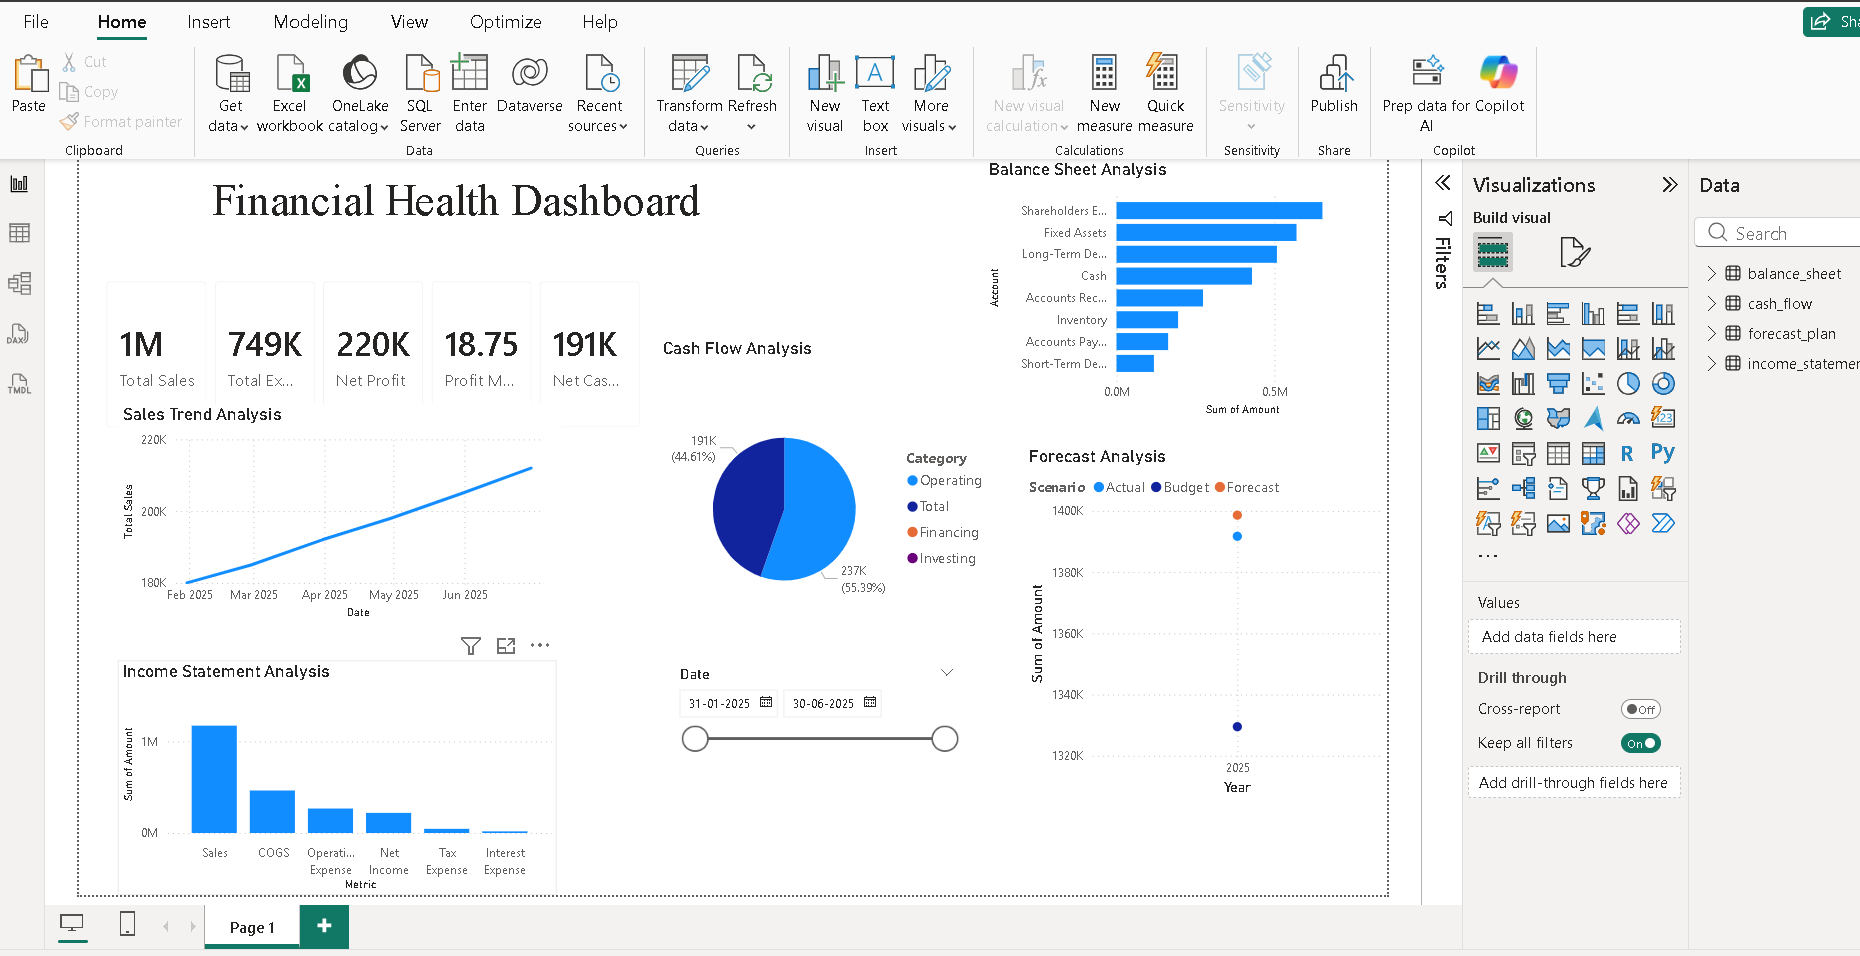

The page's visual inventory and layout, read from the dashboard file:
{"tool":"powerbi","page":{"name":"Page 1","canvas":[1280,720],"ordinal":0},"visuals":[{"type":"cardVisual","fields":{"Data":["income_statement.Total Sales","income_statement.Total Expenses","income_statement.Net Profit","income_statement.Profit Margin %","cash_flow.Net Cash Flow"]},"box":[10,102.5,556.2,177.5],"z":0},{"type":"lineChart","title":"Sales Trend Analysis","fields":{"Category":["income_statement.Date"],"Y":["income_statement.Total Sales"]},"box":[37.5,240,432.5,215],"z":1000},{"type":"clusteredColumnChart","title":"Income Statement Analysis","fields":{"Category":["income_statement.Metric"],"Y":["Sum(income_statement.Amount)"]},"box":[37.5,490,430,230],"z":2000},{"type":"clusteredBarChart","title":"Balance Sheet Analysis","fields":{"Category":["balance_sheet.Account"],"Y":["Sum(balance_sheet.Amount)"]},"box":[885,0,395,256.2],"z":3000},{"type":"pieChart","title":"Cash Flow Analysis","fields":{"Category":["cash_flow.Category"],"Y":["Sum(cash_flow.Amount)"]},"box":[566.2,175,330,315],"z":4000},{"type":"lineChart","title":"Forecast Analysis","fields":{"Category":["forecast_plan.Date.Variation.Date Hierarchy.Year","forecast_plan.Date.Variation.Date Hierarchy.Quarter","forecast_plan.Date.Variation.Date Hierarchy.Month","forecast_plan.Date.Variation.Date Hierarchy.Day"],"Y":["Sum(forecast_plan.Amount)"],"Series":["forecast_plan.Scenario"]},"box":[925,280,355,347.5],"z":5000},{"type":"slicer","fields":{"Values":["income_statement.Date"]},"box":[575,490,293.8,230],"z":6000},{"type":"textbox","box":[21.2,11.2,800,91.2],"z":7000}]}

Visuals, with their boxes on the page's 1280x720 design canvas (x1, y1, x2, y2). These are canvas units, not pixel positions in the 1860x956 screenshot, which may show the page scaled, cropped or inside an application window:
cardVisual - income_statement.Total Sales x income_statement.Total Expenses: (left=10, top=102, right=566, bottom=280)
"Sales Trend Analysis" lineChart: (left=38, top=240, right=470, bottom=455)
"Income Statement Analysis" clusteredColumnChart: (left=38, top=490, right=468, bottom=720)
"Balance Sheet Analysis" clusteredBarChart: (left=885, top=0, right=1280, bottom=256)
"Cash Flow Analysis" pieChart: (left=566, top=175, right=896, bottom=490)
"Forecast Analysis" lineChart: (left=925, top=280, right=1280, bottom=628)
slicer - income_statement.Date: (left=575, top=490, right=869, bottom=720)
textbox: (left=21, top=11, right=821, bottom=102)
